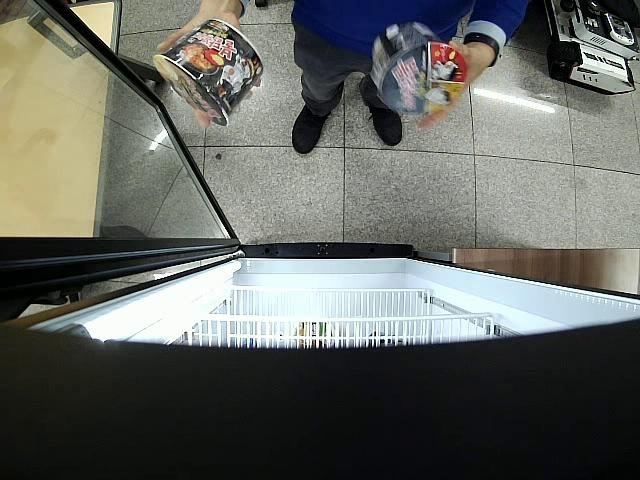07_buldak_L: (154, 20, 262, 125), (372, 22, 466, 116)
